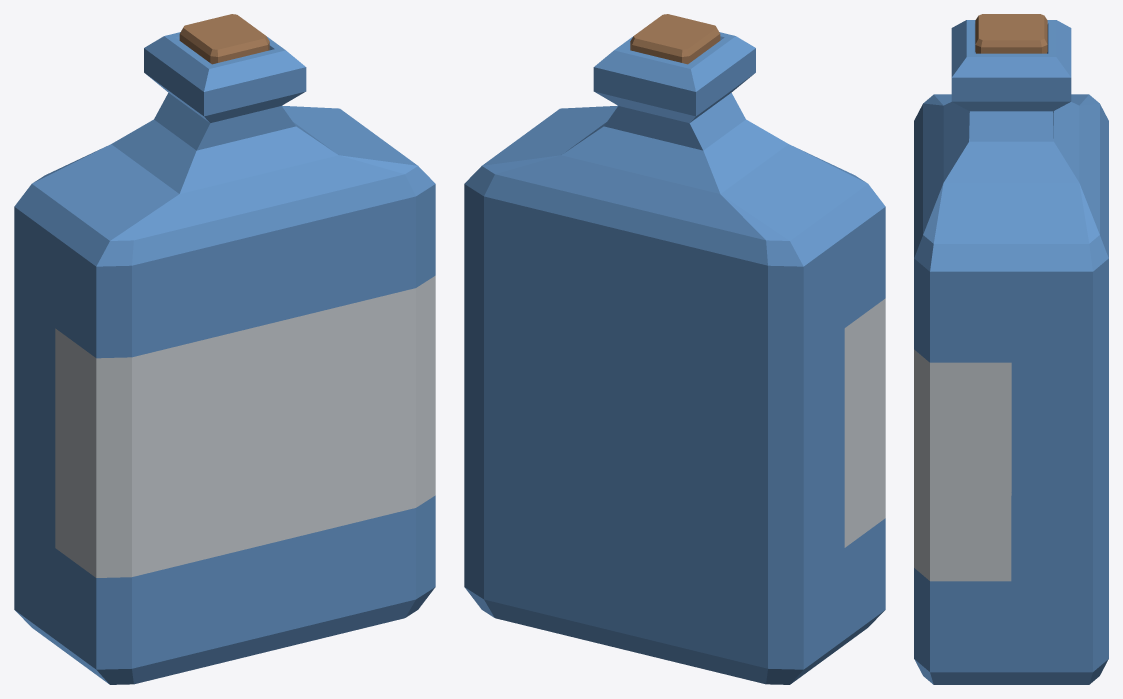
The model's file is Blue_Potion_5(Label).fbx.
The picture shows the model from 3 angles, left to right: view 1: azimuth 30°, elevation 25°; view 2: azimuth 150°, elevation 25°; view 3: azimuth 270°, elevation 25°; orthographic projection.
Visible parts, largest first — view 1: Blue_Potion_5(Label); view 2: Blue_Potion_5(Label); view 3: Blue_Potion_5(Label).
Part boxes in pixels (x1,y1,x2,y2): Blue_Potion_5(Label): (14, 14, 435, 684); Blue_Potion_5(Label): (464, 14, 885, 684); Blue_Potion_5(Label): (914, 14, 1108, 684).
Size of the model in its own units: 25.6 by 42.3 by 12.8.
